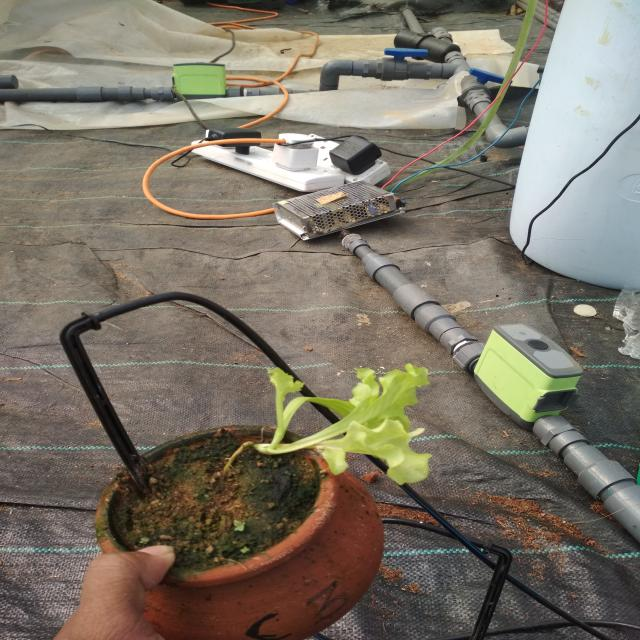Lettuce-Not-Ready-to-Harvest: (263, 368, 449, 483)
